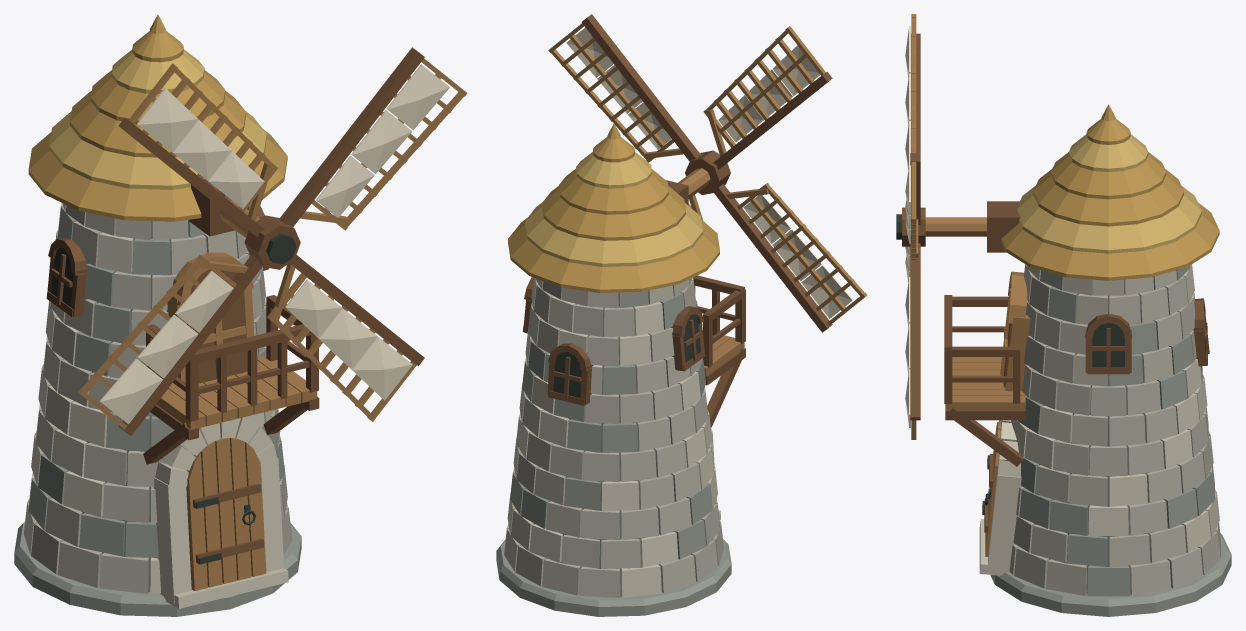
Rendered from baling-baling.glb.
3 views of the same model, side by side, from view 1: azimuth 30°, elevation 25°; view 2: azimuth 150°, elevation 25°; view 3: azimuth 270°, elevation 25° (orthographic). The views are drawn at different scales.
Visible parts, largest first — view 1: windmill.body.base, windmill.cap.accent, windmill.body.stone-dark, windmill.door.surround, windmill.door.planks, windmill.balcony.frame, windmill.cap.straw-light, windmill.body.stone-light, windmill.foundation, windmill.rotor.sail2.cloth, windmill.rotor.sail4.cloth, windmill.rotor.sail3.cloth (+19 smaller); view 2: windmill.body.base, windmill.cap.accent, windmill.body.stone-light, windmill.body.stone-dark, windmill.cap.straw-light, windmill.foundation, windmill.rotor.sail1.lattice, windmill.balcony.frame, windmill.rotor.sail2.lattice, windmill.rotor.sail4.lattice, windmill.rotor.sail2.cloth, windmill.rotor.sail4.spar (+11 smaller); view 3: windmill.body.base, windmill.cap.accent, windmill.body.stone-dark, windmill.body.stone-light, windmill.cap.straw-light, windmill.balcony.frame, windmill.foundation, windmill.door.surround, windmill.balcony.deck, windmill.balcony.door.trim, windmill.rotor.sail3.spar, windmill.windows.window1.frame (+13 smaller).
Part boxes in pixels (left/top/right/bottom): windmill.body.base: left=23, top=203, right=292, bottom=593; windmill.cap.accent: left=28, top=31, right=287, bottom=221; windmill.body.stone-dark: left=28, top=204, right=284, bottom=557; windmill.door.surround: left=153, top=417, right=288, bottom=608; windmill.door.planks: left=186, top=438, right=266, bottom=590; windmill.balcony.frame: left=143, top=295, right=319, bottom=464; windmill.cap.straw-light: left=49, top=49, right=266, bottom=189; windmill.body.stone-light: left=27, top=202, right=274, bottom=593; windmill.foundation: left=14, top=522, right=301, bottom=616; windmill.rotor.sail2.cloth: left=100, top=270, right=233, bottom=424; windmill.rotor.sail4.cloth: left=316, top=64, right=449, bottom=217; windmill.rotor.sail3.cloth: left=285, top=279, right=412, bottom=400; windmill.body.base: left=504, top=278, right=723, bottom=597; windmill.cap.accent: left=508, top=137, right=719, bottom=292; windmill.body.stone-light: left=510, top=277, right=717, bottom=597; windmill.body.stone-dark: left=510, top=281, right=720, bottom=559; windmill.cap.straw-light: left=525, top=152, right=702, bottom=266; windmill.foundation: left=496, top=539, right=731, bottom=616; windmill.rotor.sail1.lattice: left=703, top=26, right=825, bottom=156; windmill.balcony.frame: left=693, top=275, right=745, bottom=427; windmill.rotor.sail2.lattice: left=726, top=183, right=867, bottom=325; windmill.rotor.sail4.lattice: left=548, top=23, right=683, bottom=162; windmill.rotor.sail2.cloth: left=743, top=195, right=852, bottom=318; windmill.rotor.sail4.spar: left=581, top=14, right=700, bottom=161; windmill.body.base: left=1004, top=264, right=1220, bottom=595; windmill.cap.accent: left=1001, top=118, right=1219, bottom=280; windmill.body.stone-dark: left=1018, top=265, right=1214, bottom=596; windmill.body.stone-light: left=1011, top=264, right=1219, bottom=552; windmill.cap.straw-light: left=1017, top=134, right=1201, bottom=253; windmill.balcony.frame: left=944, top=295, right=1025, bottom=466; windmill.foundation: left=990, top=533, right=1231, bottom=616; windmill.door.surround: left=979, top=420, right=1021, bottom=575; windmill.balcony.deck: left=945, top=357, right=1025, bottom=410; windmill.balcony.door.trim: left=1000, top=271, right=1030, bottom=391; windmill.rotor.sail3.spar: left=910, top=243, right=920, bottom=420; windmill.windows.window1.frame: left=1085, top=312, right=1131, bottom=374.
Bounding box in the file's own units: 5.4 × 8 × 4.77.
